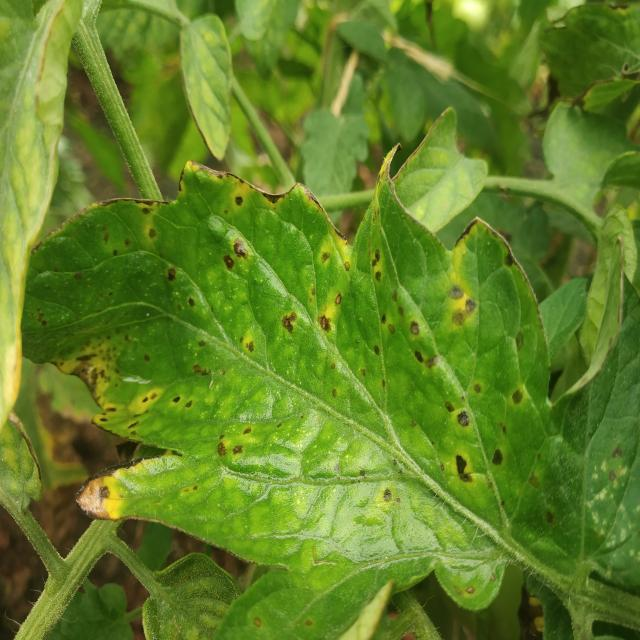Tomato mosaic virus leaf: (23, 136, 558, 640)
